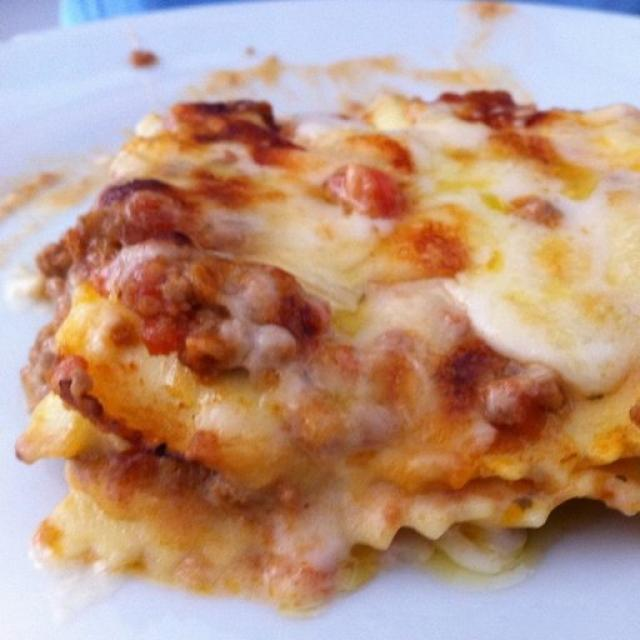Lasagna: (64, 85, 626, 564)
